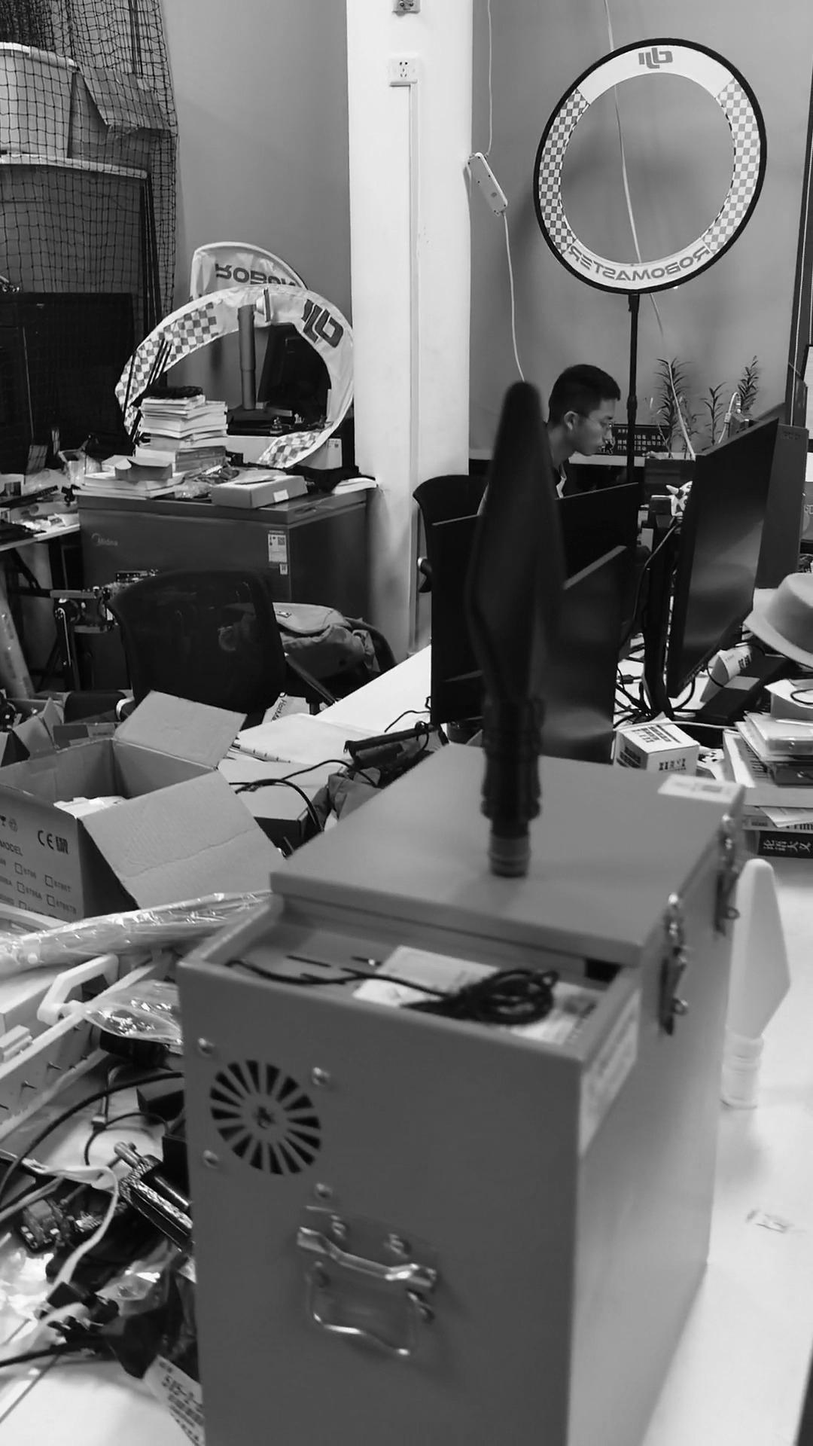base: (488, 832, 533, 878)
